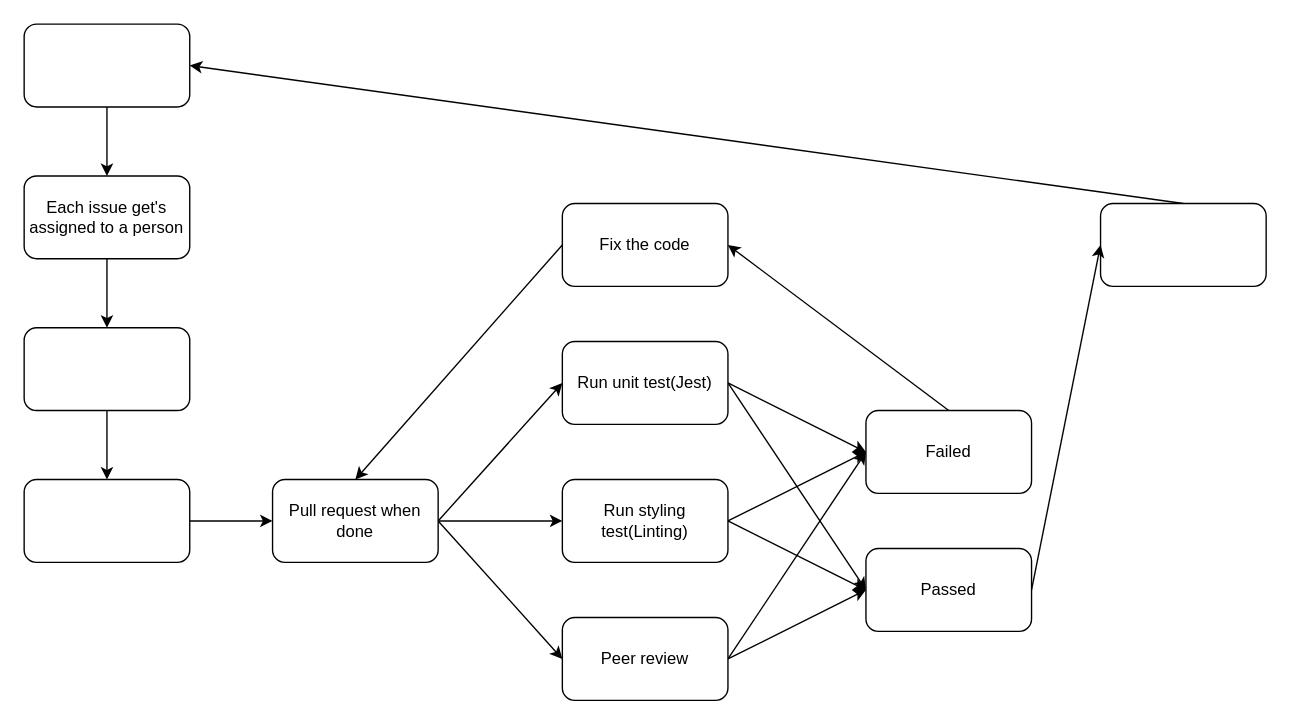
This 1290x725 diagram has some shape labels left out. Here are the shapes that lost their labels. From the top down, the centre of each, then its label:
At point (106, 65): "Github issues".
At point (1182, 244): "Merge with main".
At point (106, 368): "Person work on the issue on their branch".
At point (106, 520): "Documentation (JSDocs)".
